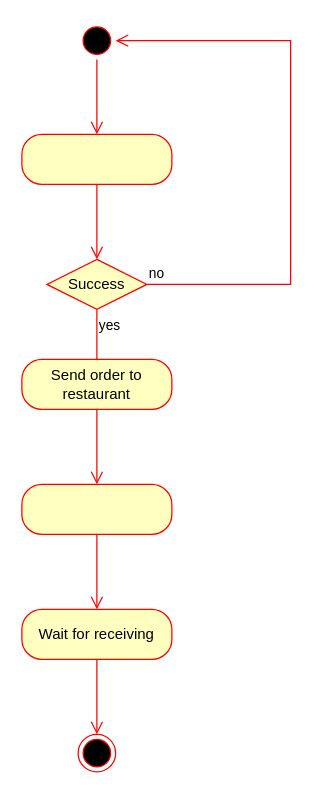
Some shapes in this 325 by 794 pixel diagram are drawn without their labels. Here are the shapes that lost their labels. From the top down, the centre of each, then its label:
point 96,158: Processing of payment
point 96,508: Send info to user
